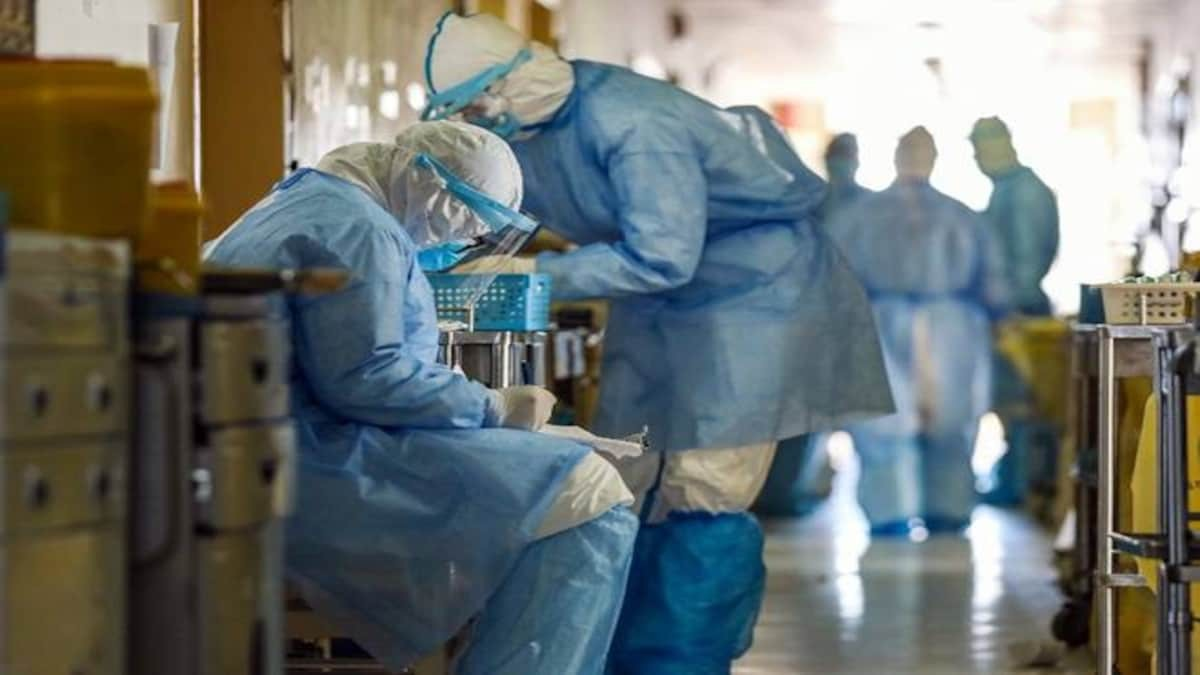Coverall: (203, 165, 641, 675), (425, 9, 900, 458), (843, 123, 998, 541), (964, 115, 1076, 517)
Face_Shield: (403, 159, 538, 317), (420, 49, 530, 148)
Gloves: (484, 382, 556, 432)
with_mask: (413, 215, 491, 275)
